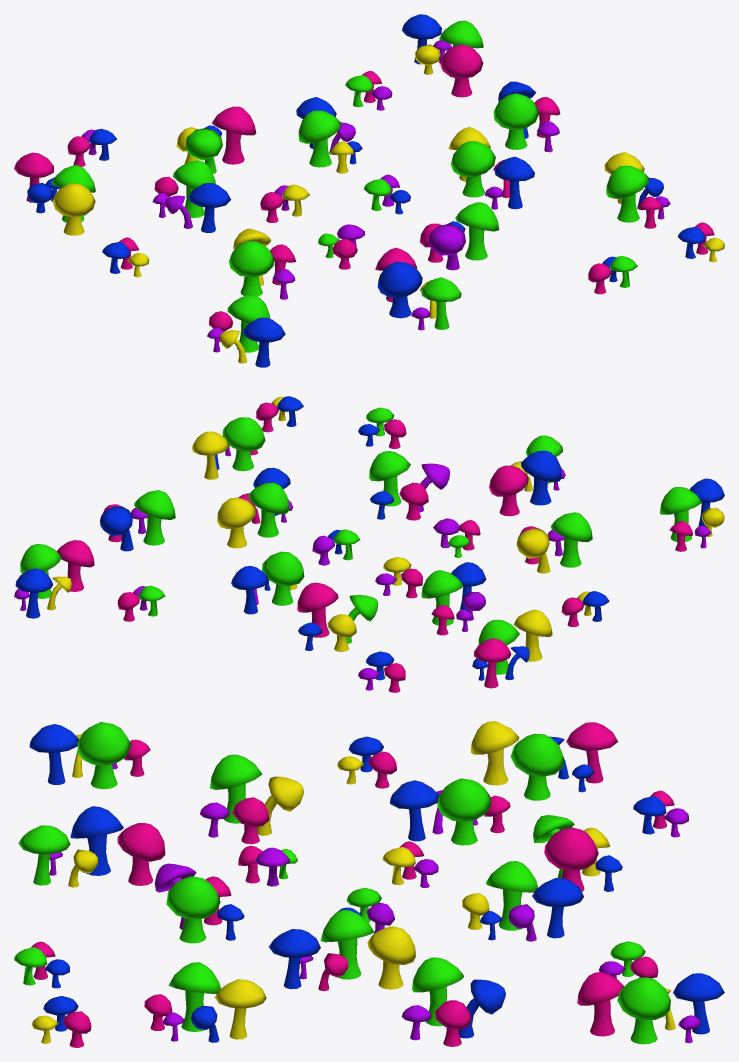
File: MushroomPatch.fbx
3 renders of one model, top to bottom at view 1: azimuth 30°, elevation 25°; view 2: azimuth 150°, elevation 25°; view 3: azimuth 270°, elevation 25°, orthographic. The views are drawn at different scales.
Parts seen in each view (by area): view 1: Mushroom_Patch; view 2: Mushroom_Patch; view 3: Mushroom_Patch.
Part boxes in pixels (x1,y1,x2,y2): Mushroom_Patch: [14, 14, 724, 367]; Mushroom_Patch: [14, 396, 724, 692]; Mushroom_Patch: [14, 721, 724, 1047].
Bounding box in the file's own units: 280 × 31.21 × 293.
